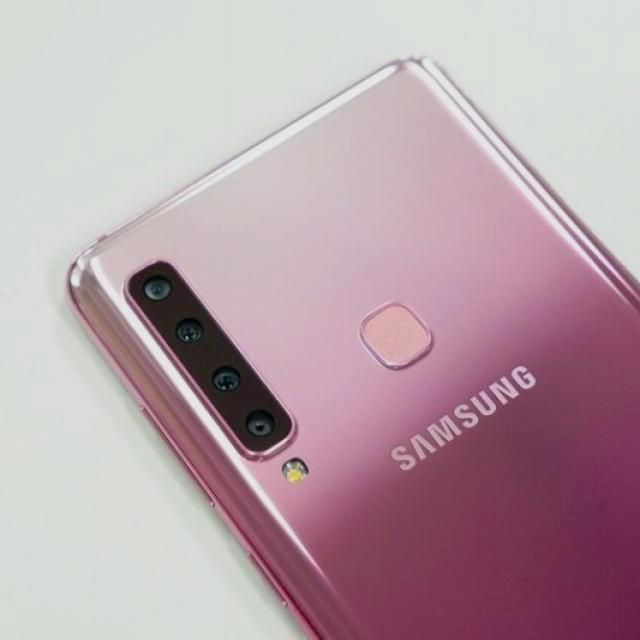lens: (126, 257, 291, 454)
phone: (65, 58, 640, 640)
